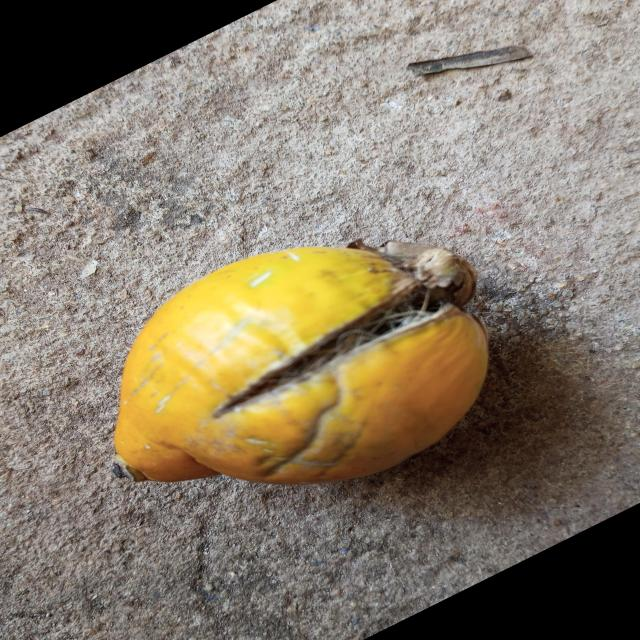damaged: (114, 240, 489, 484)
